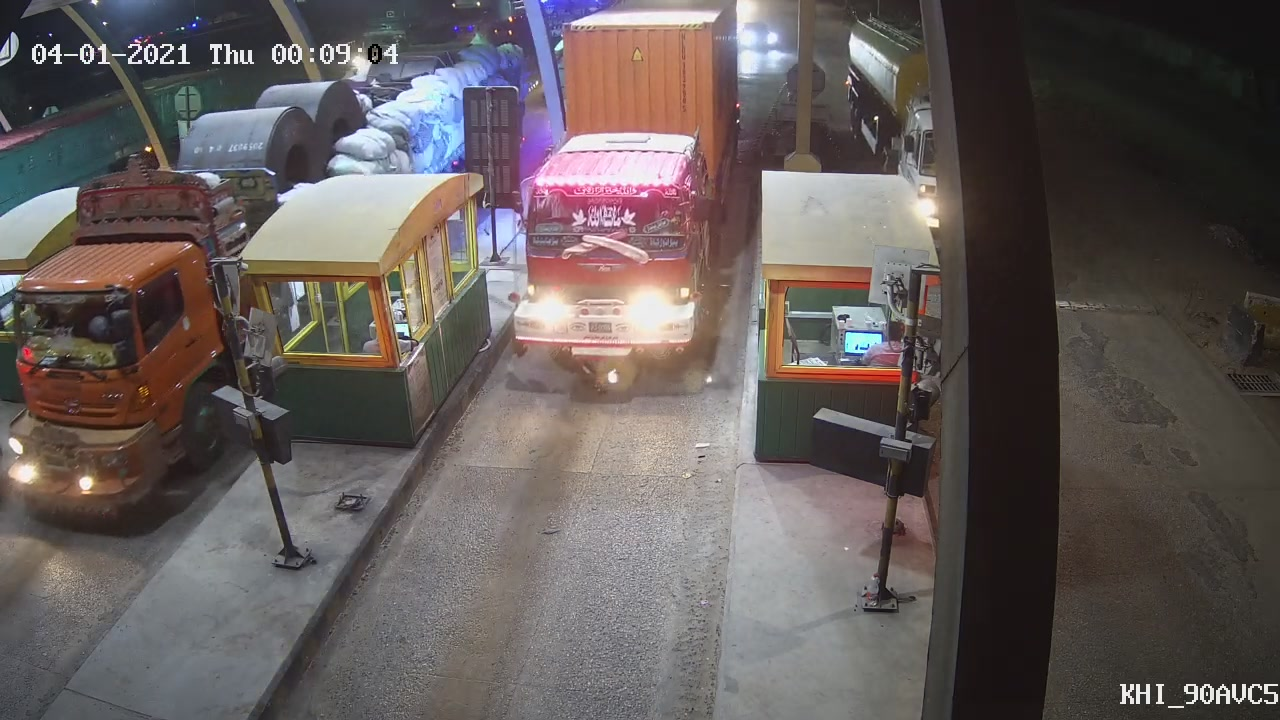F5: (511, 19, 729, 390)
